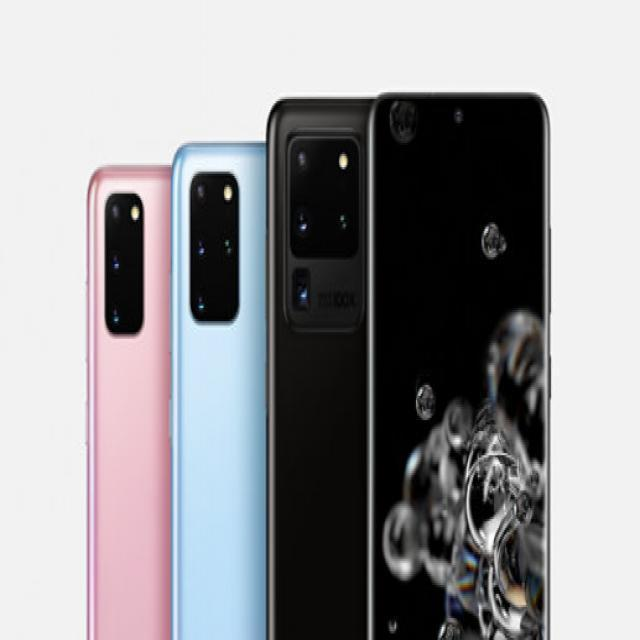Phone: (370, 91, 551, 638), (261, 95, 365, 636), (168, 143, 271, 638), (80, 158, 174, 638)
